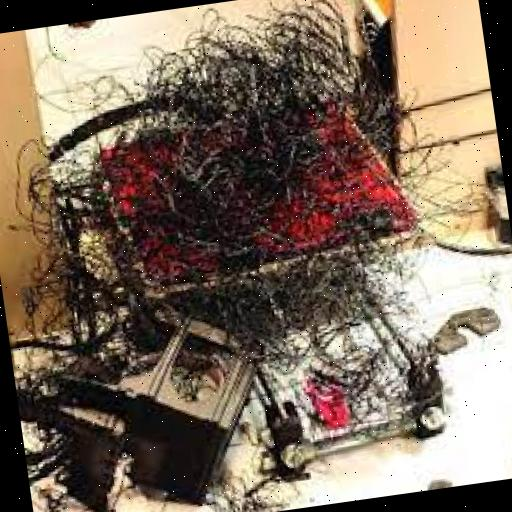spaghetti: (0, 16, 467, 474)
